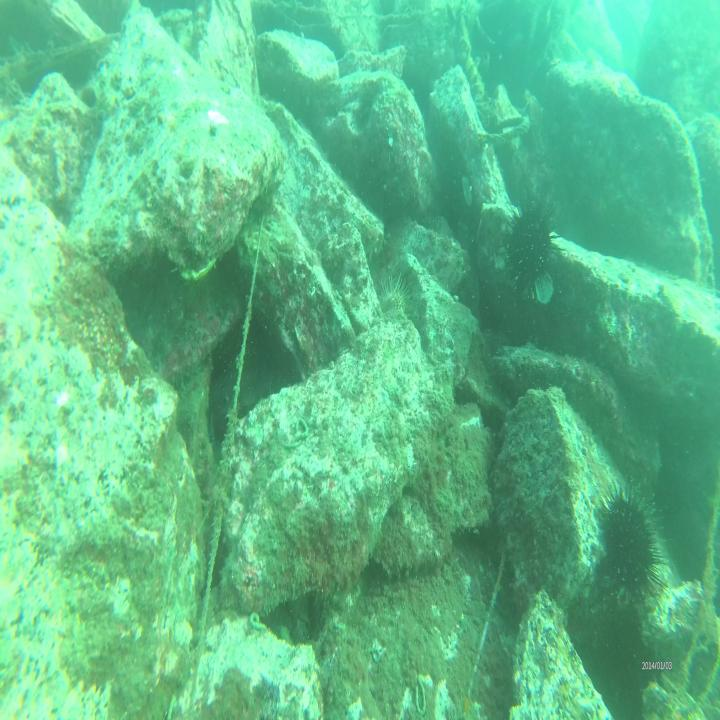echinus: (600, 485, 660, 604), (505, 202, 553, 296), (379, 278, 411, 324)
